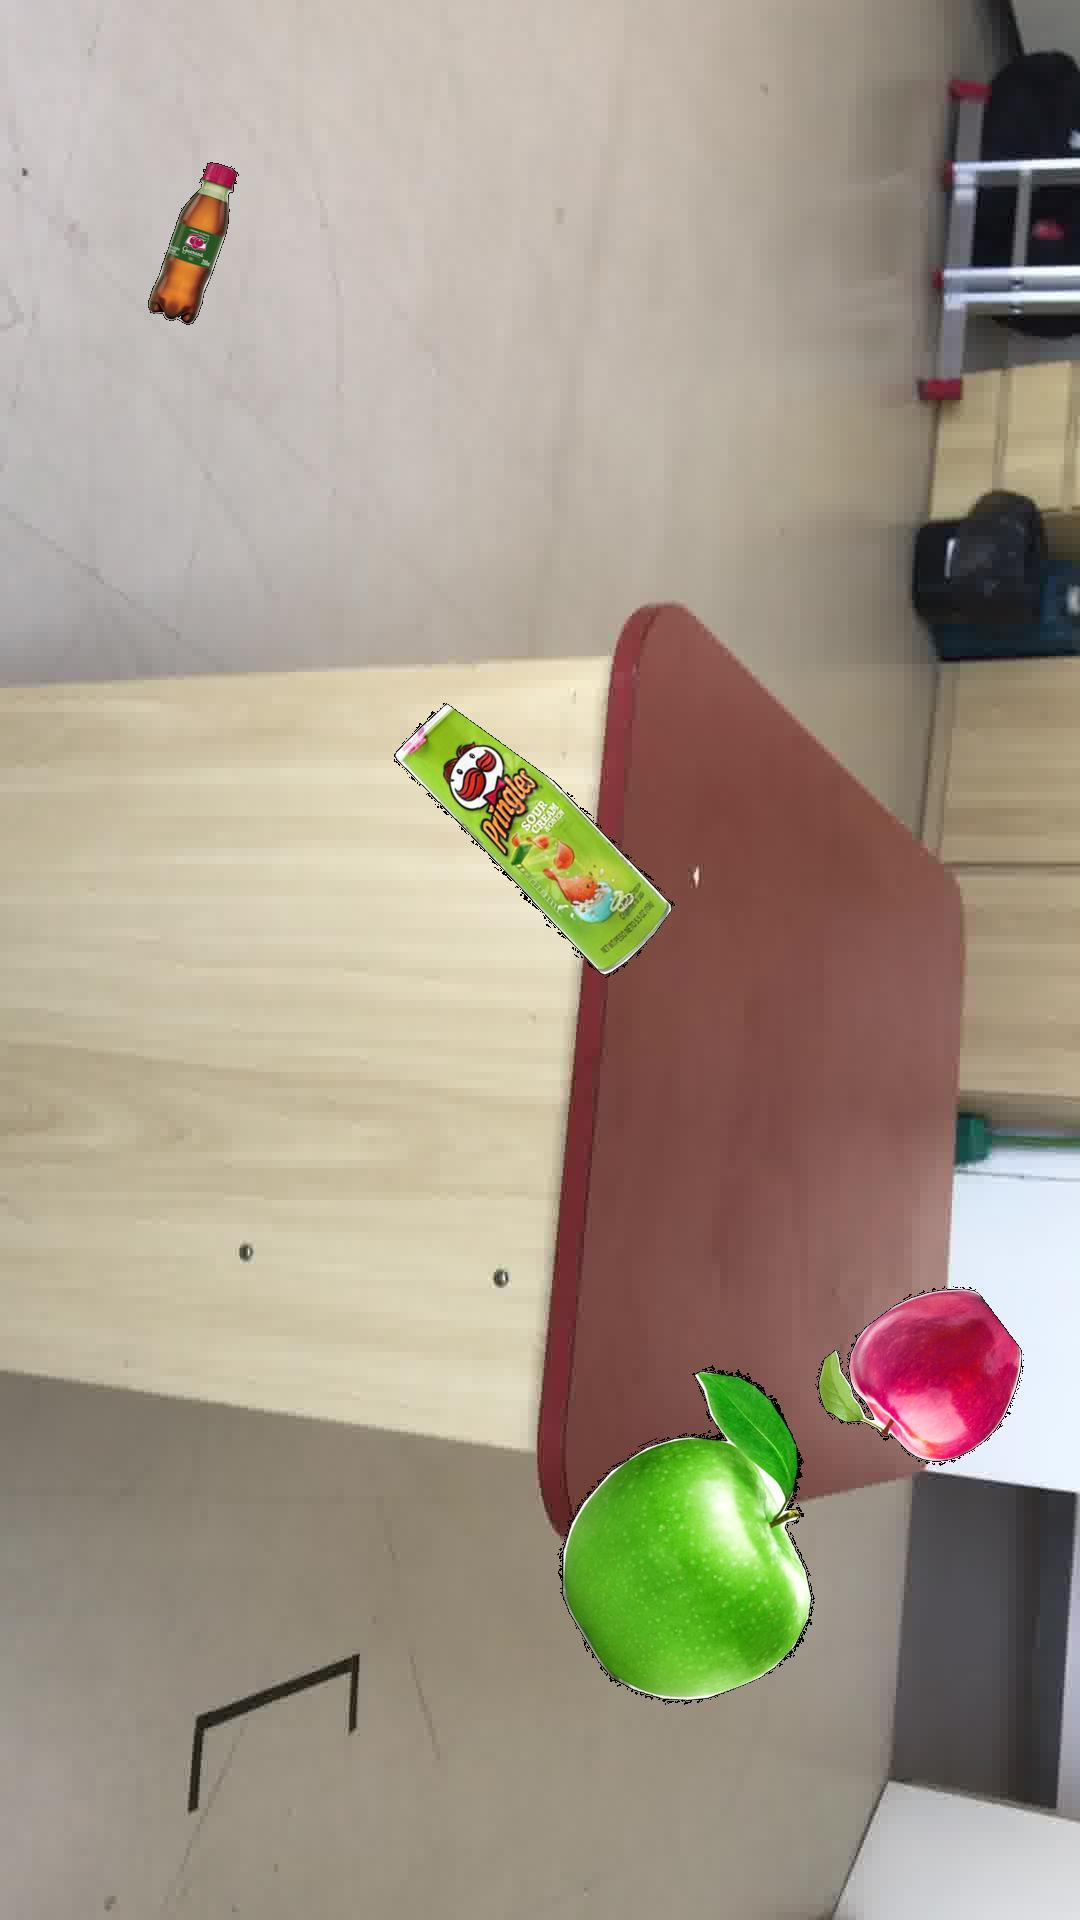apple: (815, 1286, 1022, 1461)
green apple: (556, 1364, 814, 1704)
guarana: (146, 161, 236, 323)
pringles: (393, 702, 673, 976)
